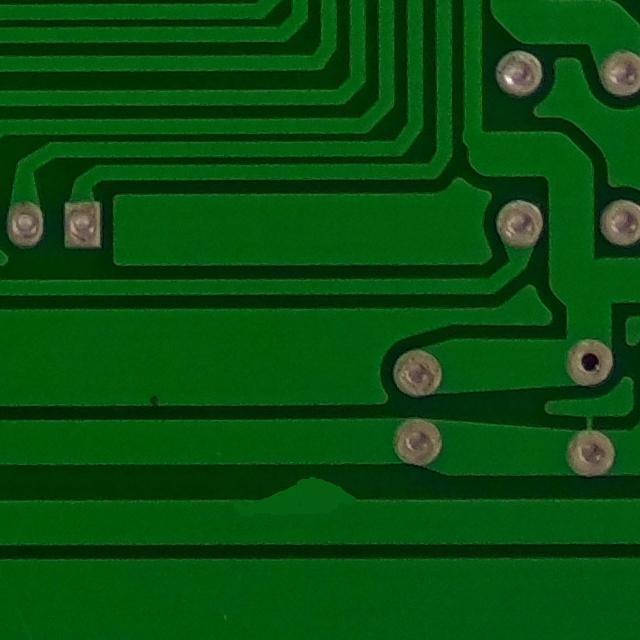spur: (240, 466, 371, 539)
